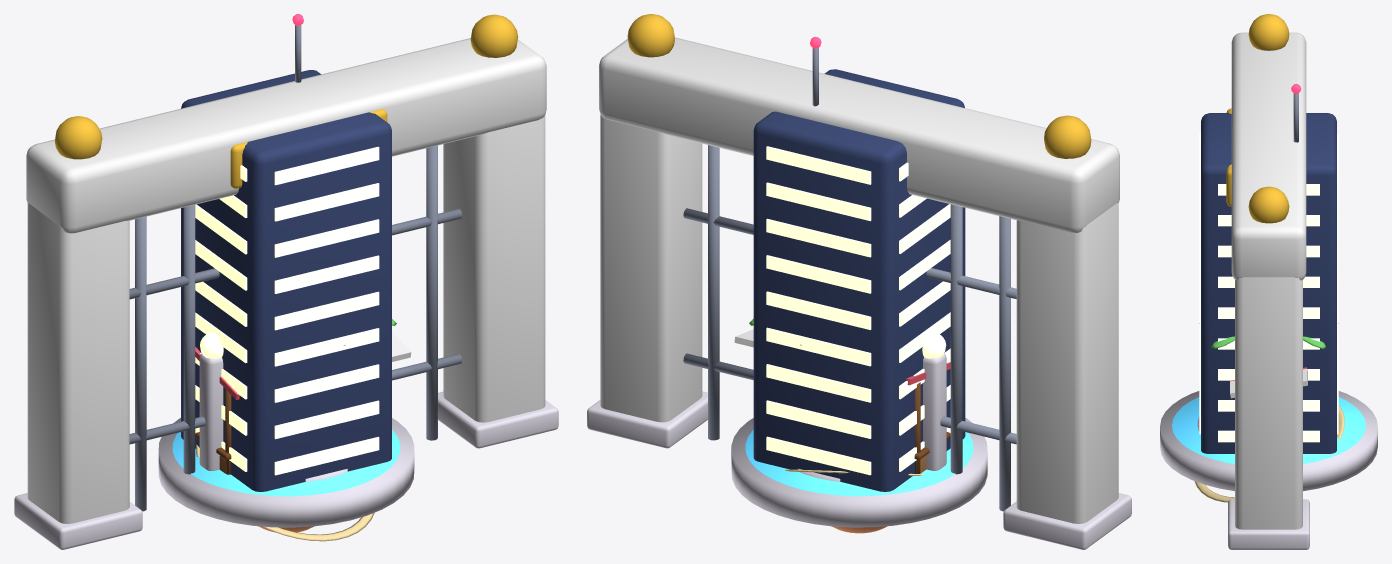
File: assets.glb
3 renders of one model, left to right at view 1: azimuth 30°, elevation 25°; view 2: azimuth 150°, elevation 25°; view 3: azimuth 270°, elevation 25°, orthographic. The views are drawn at different scales.
Parts seen in each view (by area): view 1: gate_arch, building, gate_bars, fountain, portal, booth, planet; view 2: gate_arch, building, gate_bars, fountain, portal, booth; view 3: gate_arch, building, fountain, planet, tree_palm.
Boxes of the visible parts, x1,y1,x2,y2 form: gate_arch: (14,14,558,549); building: (181,14,391,491); gate_bars: (129,145,462,511); fountain: (158,418,414,527); portal: (199,332,347,481); booth: (195,332,411,474); planet: (196,444,374,541); gate_arch: (587,14,1131,549); building: (753,37,965,491); gate_bars: (683,145,1016,511); fountain: (731,418,987,527); portal: (798,332,946,481); booth: (734,329,950,473); gate_arch: (1226,14,1309,549); building: (1199,84,1338,453); fountain: (1160,391,1377,491); planet: (1194,405,1344,502); tree_palm: (1199,323,1338,348).
Bounding box in the file's own units: 14.4 × 13.65 × 6.4.
